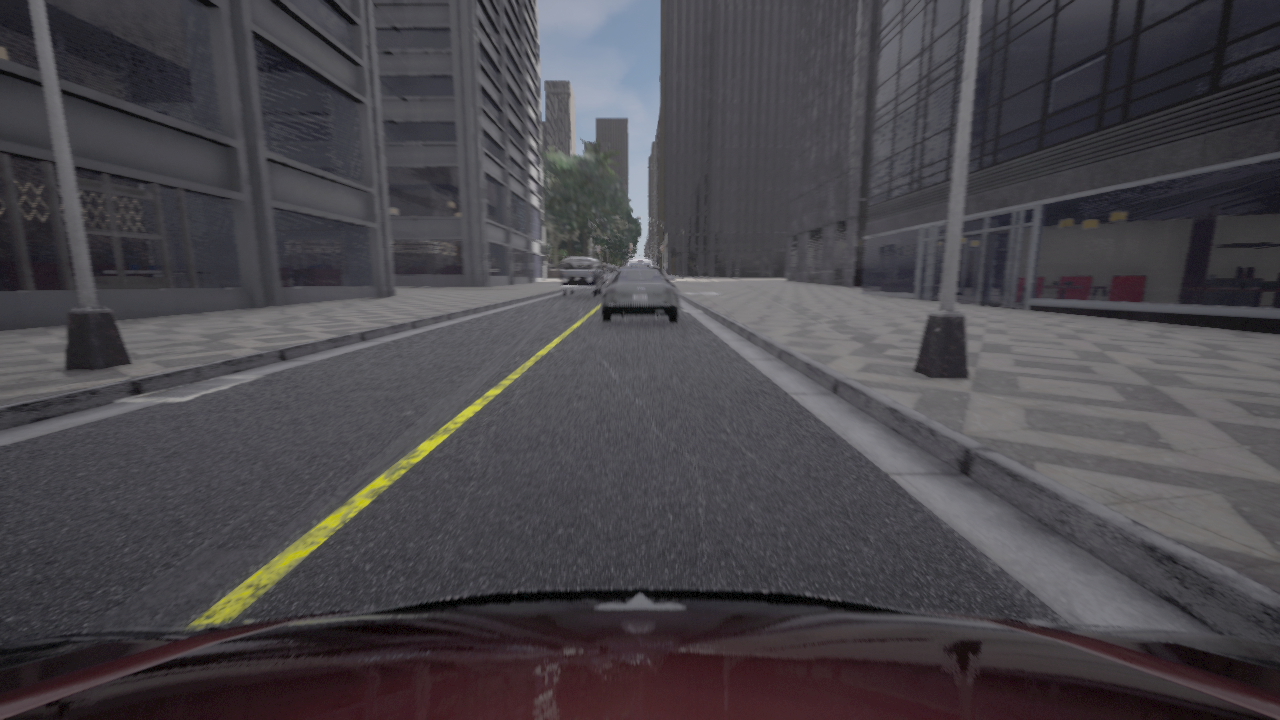cyclist: (0, 588, 1279, 719), (600, 267, 679, 321), (558, 257, 601, 296), (601, 266, 618, 284), (626, 258, 653, 266)
